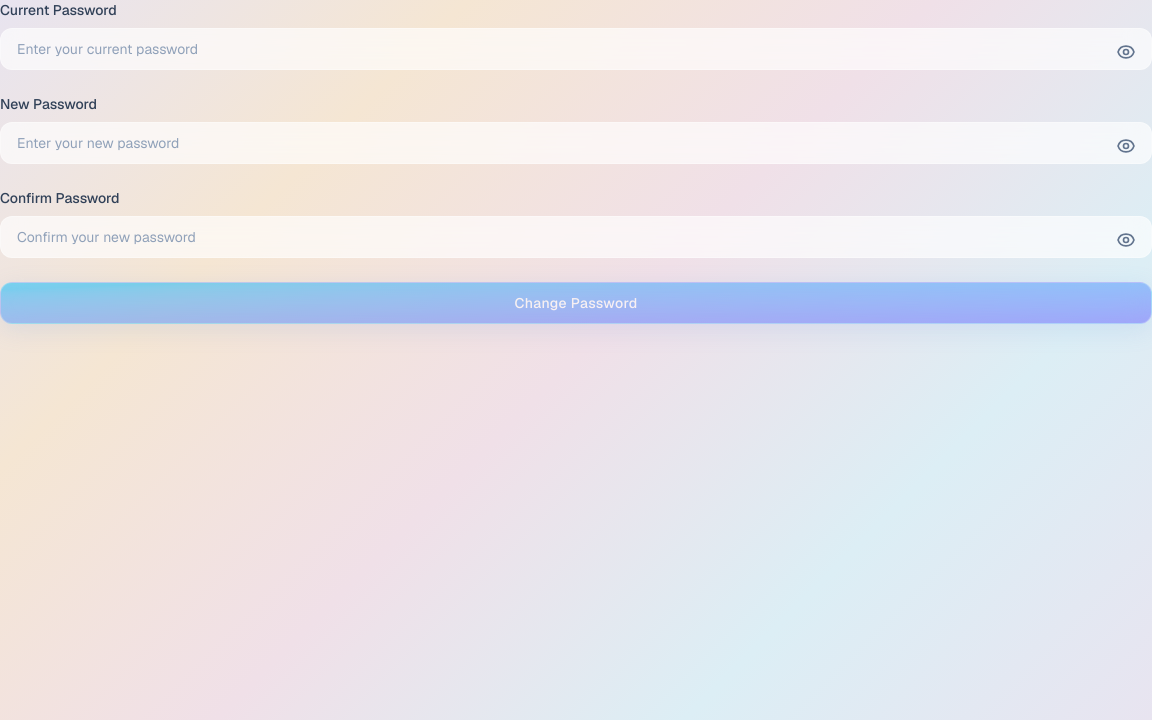
Test case: ChangePasswordForm › password strength indicator › shows strength indicator when typing new password
Step 1. Type "a" into the password field labelled "New Password" → (576, 143), box x1=0 y1=122 x2=1151 y2=164
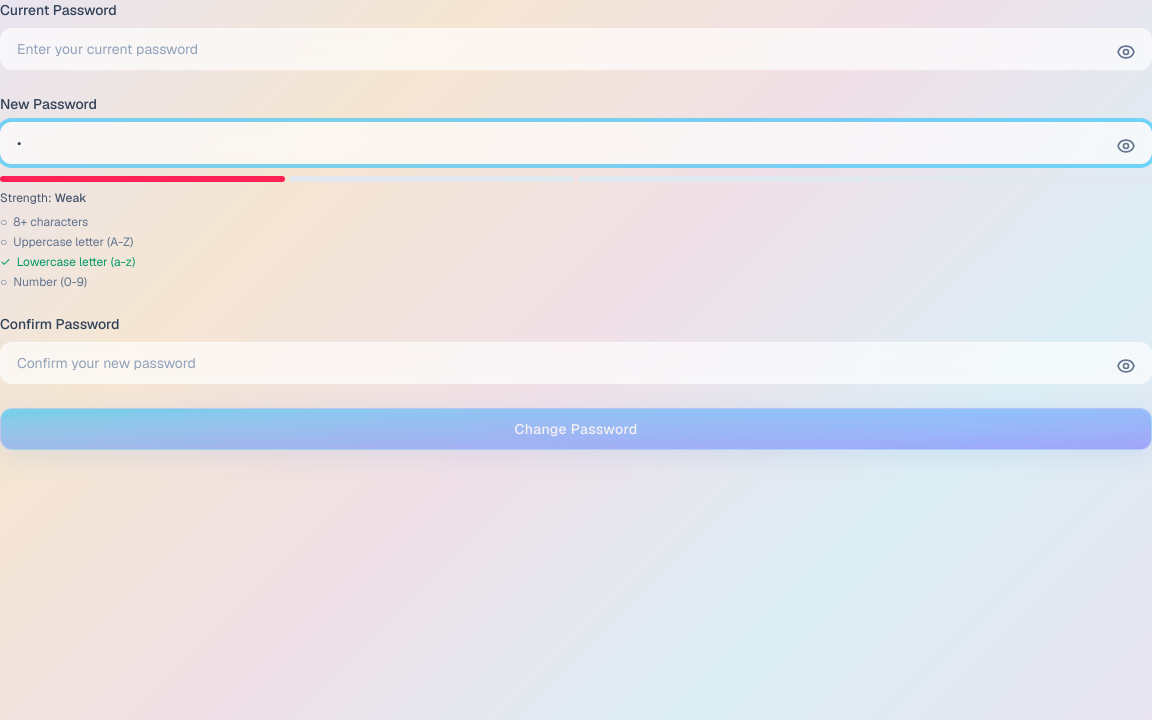
Expected: the text "Strength: Weak" is shown, x1=0 y1=190 x2=86 y2=206
